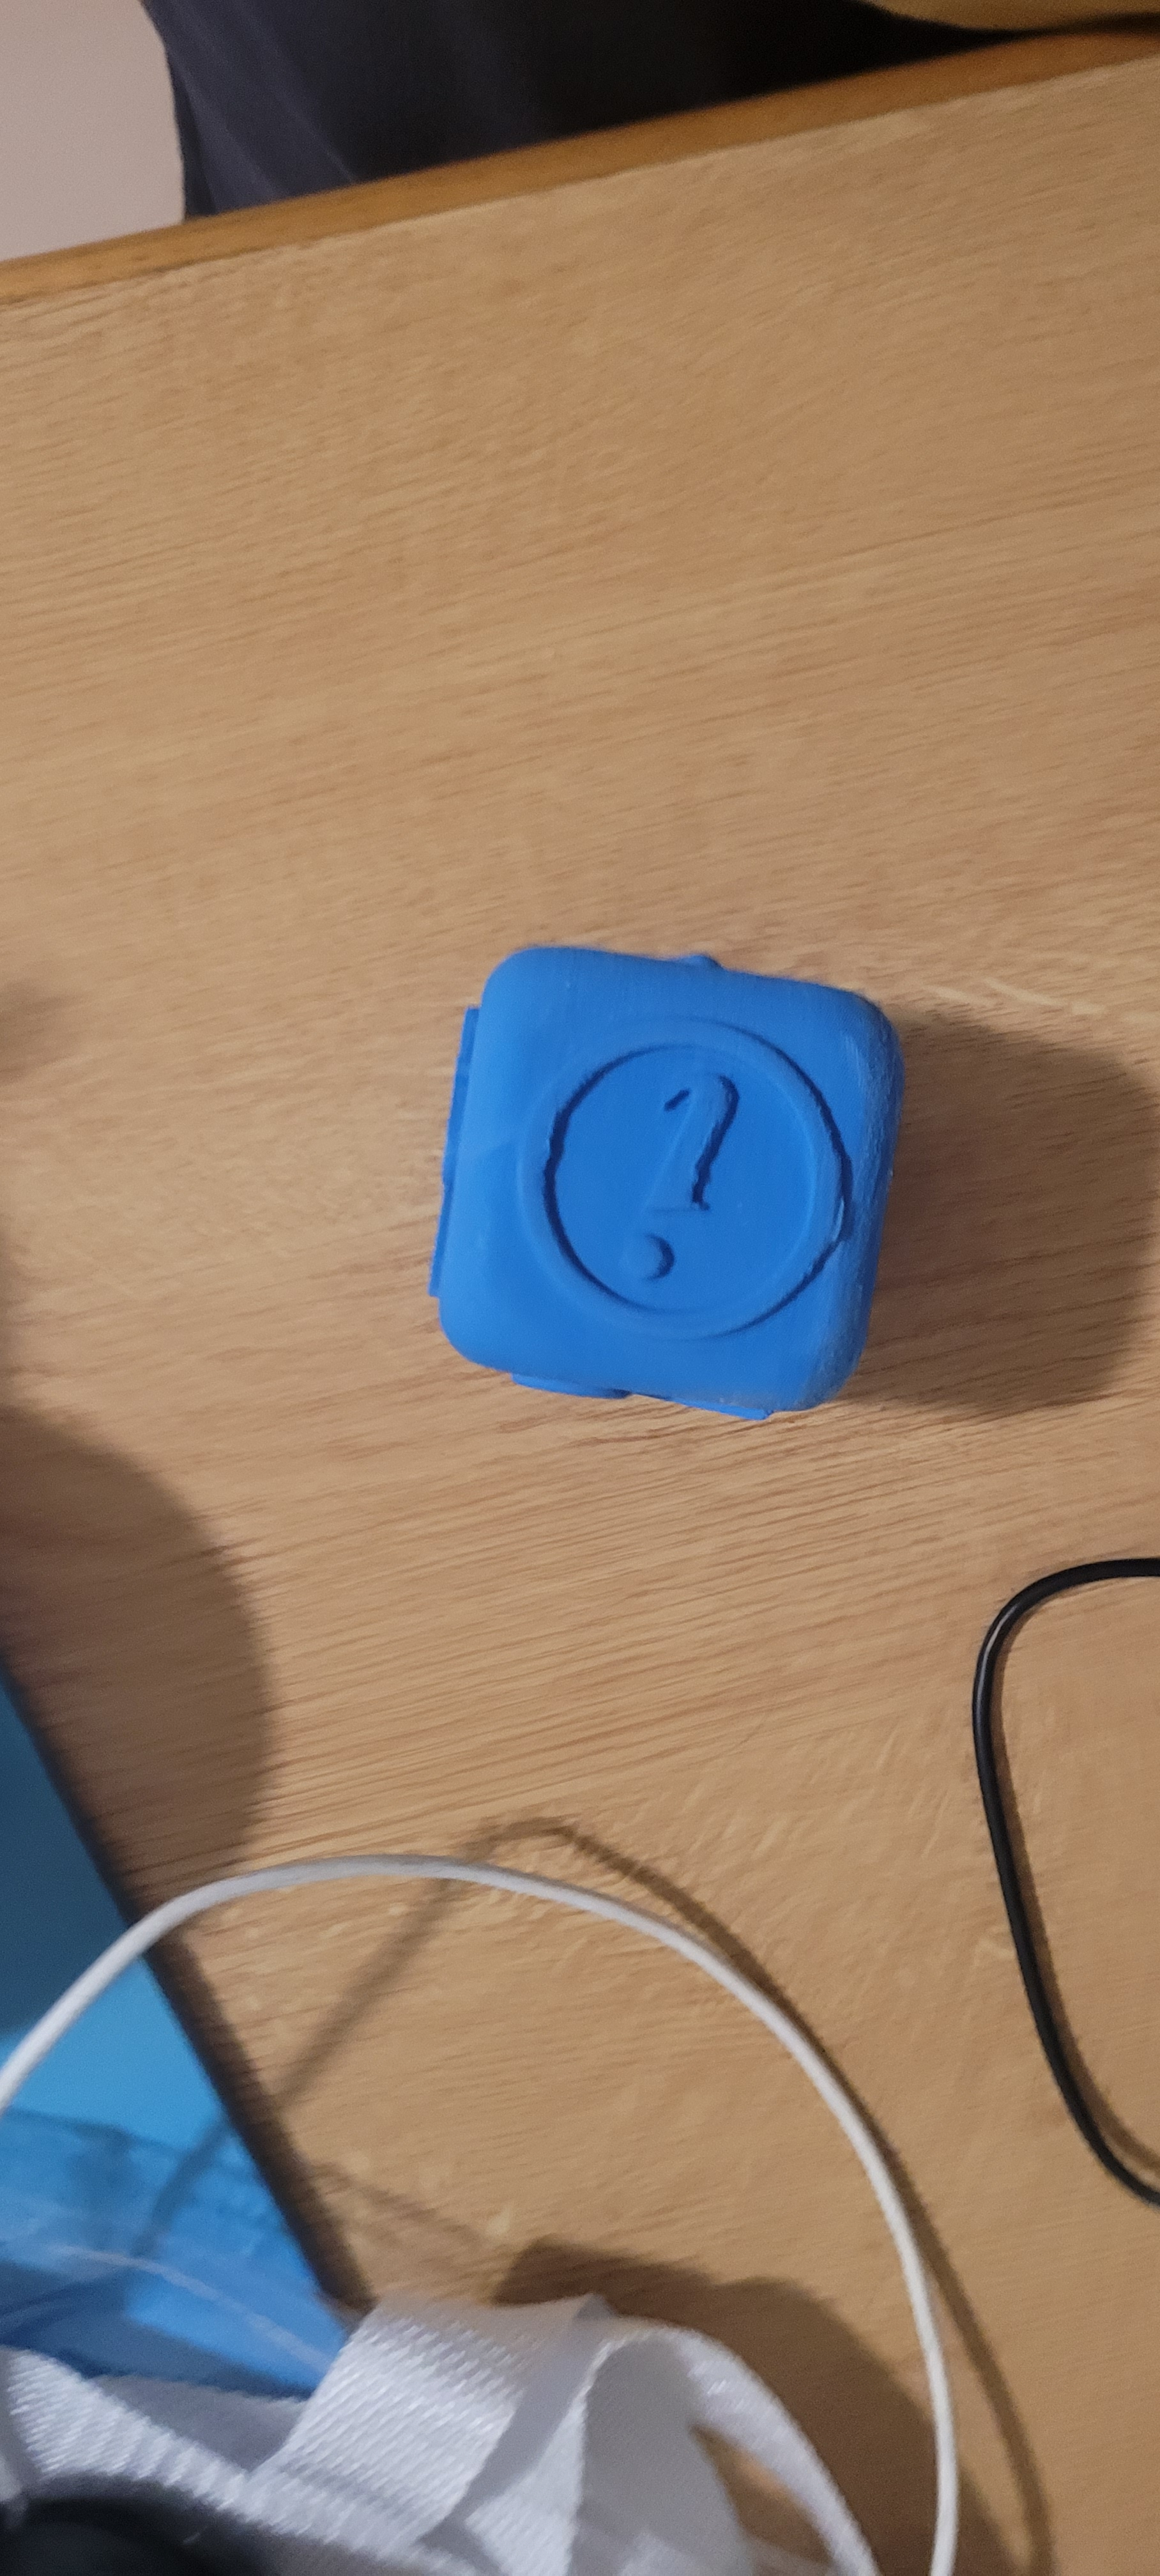Info: (542, 1001, 851, 1380)
